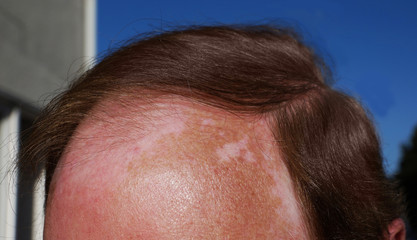vitiligo: (93, 93, 298, 203)
